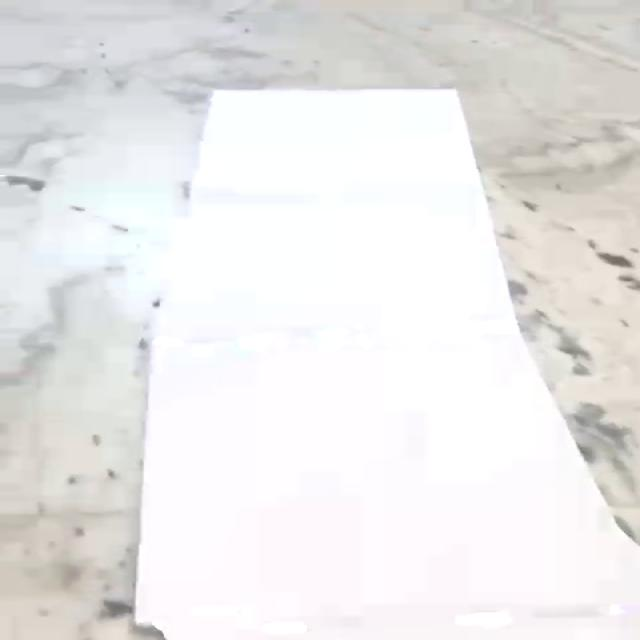road: (135, 90, 640, 640)
